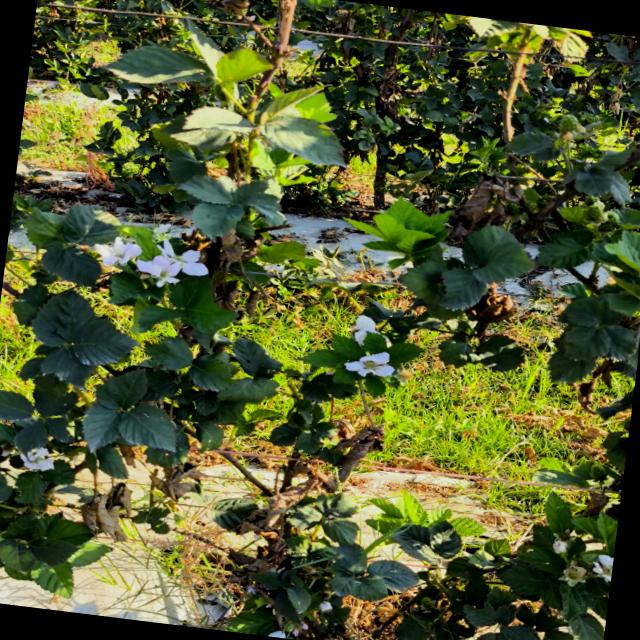flor: (160, 239, 207, 275), (136, 255, 180, 286), (93, 237, 141, 265), (344, 351, 394, 377), (351, 314, 378, 345), (20, 447, 53, 471)
